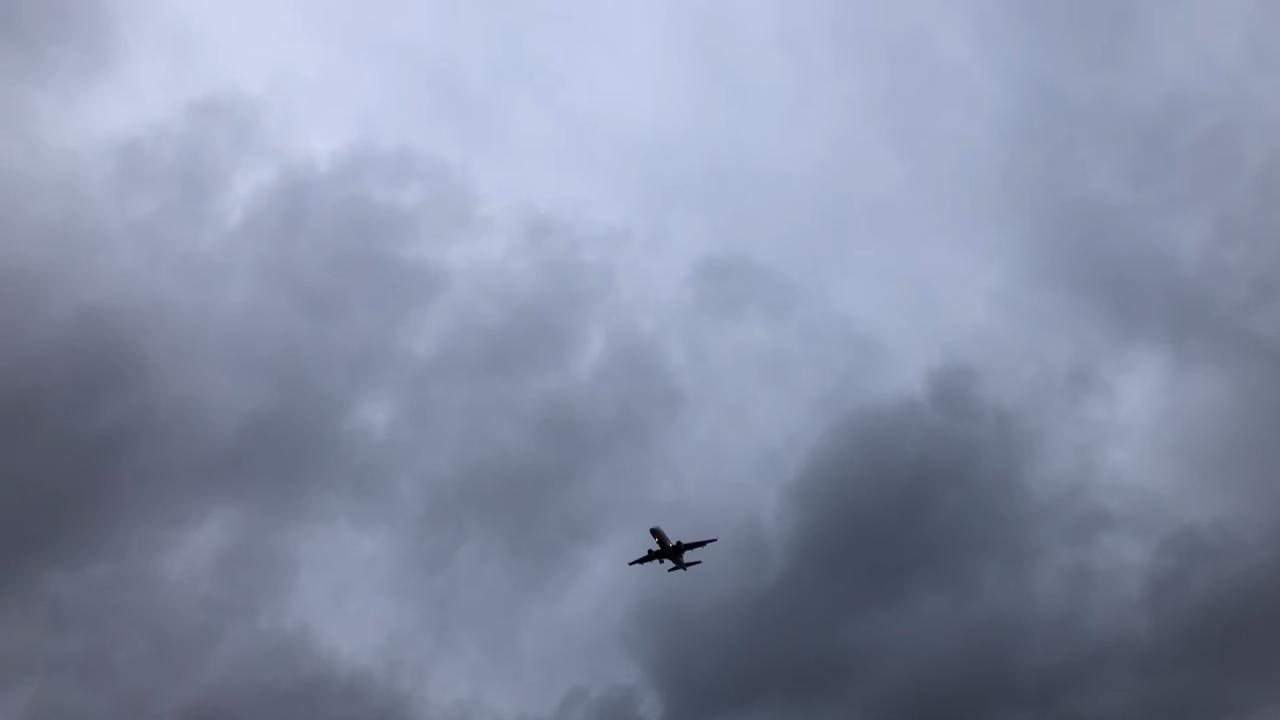Airplane: (621, 519, 729, 581)
